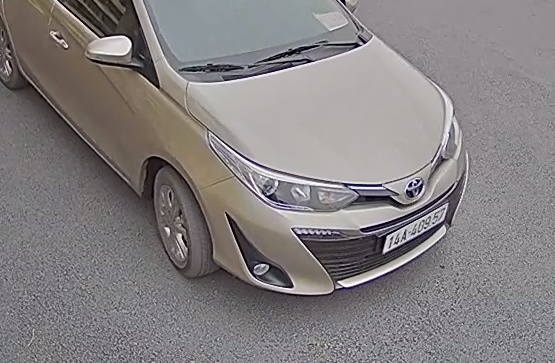vehicle plate: (377, 199, 450, 258)
